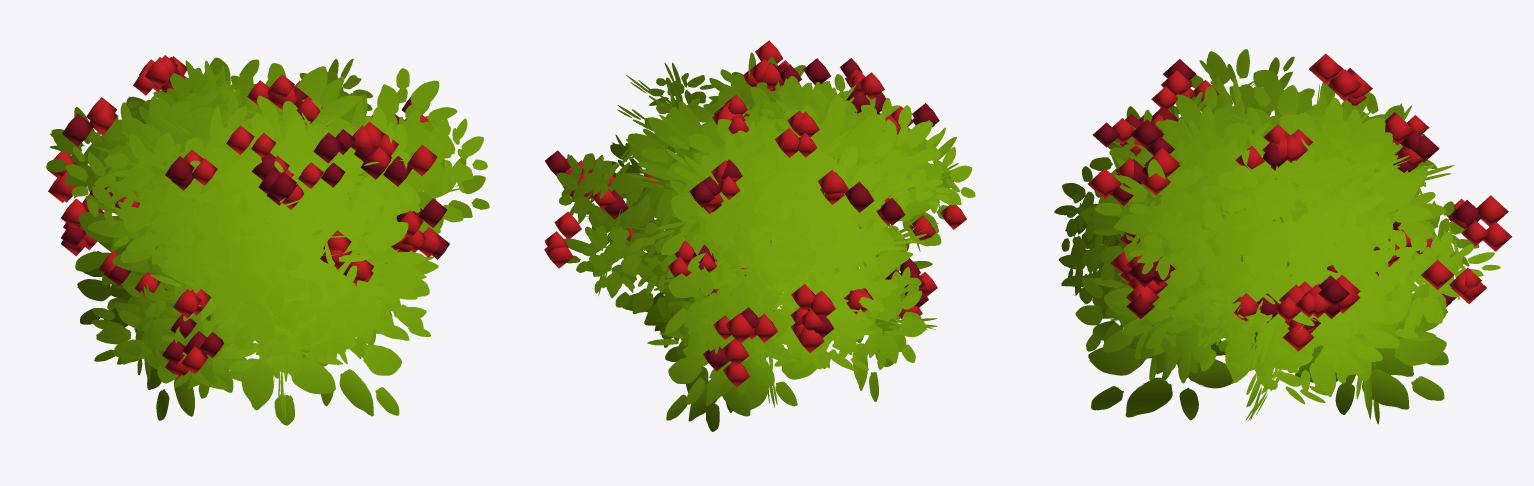
File: bush_fruit_berries_50.gltf
3 views of the same model, side by side, from view 1: azimuth 30°, elevation 25°; view 2: azimuth 150°, elevation 25°; view 3: azimuth 270°, elevation 25° (orthographic). The views are drawn at different scales.
Parts seen in each view (by area): view 1: bush_fruit_berries_50; view 2: bush_fruit_berries_50; view 3: bush_fruit_berries_50.
Boxes of the visible parts, x1,y1,x2,y2 form: bush_fruit_berries_50: [46, 55, 489, 425]; bush_fruit_berries_50: [544, 40, 975, 431]; bush_fruit_berries_50: [1054, 49, 1512, 424].
Size of the model in its own units: 0.9112 by 0.7998 by 0.8974.
3 materials, 1 textured.
